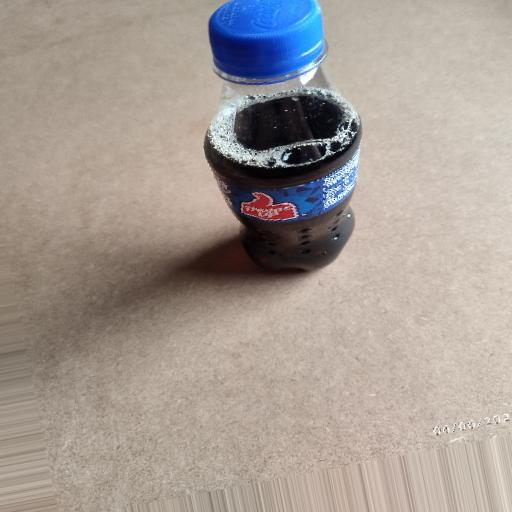Thumps Up: (177, 1, 391, 279)
